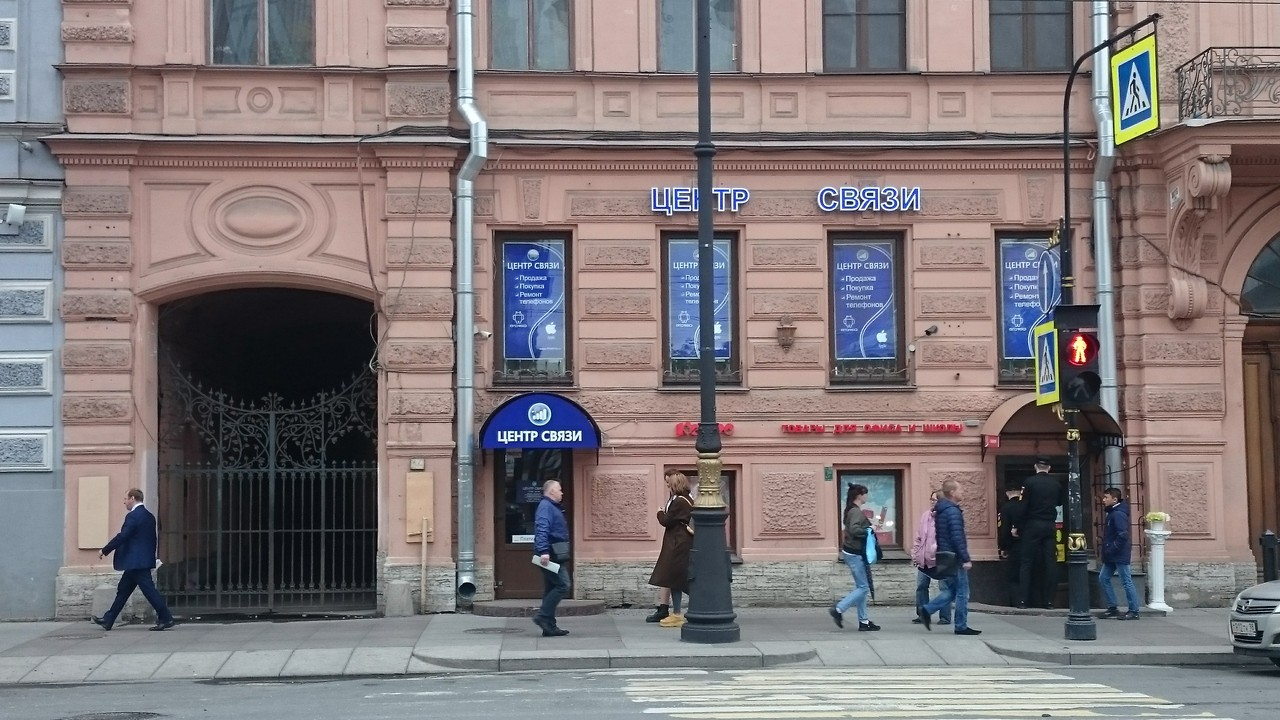arch: (139, 271, 383, 623)
signboard: (644, 178, 928, 219), (779, 419, 965, 438)
window: (495, 229, 570, 394), (827, 229, 906, 382), (662, 232, 734, 383), (1001, 232, 1072, 380)
